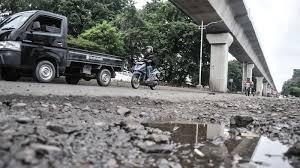Pothole: (7, 91, 300, 168)
